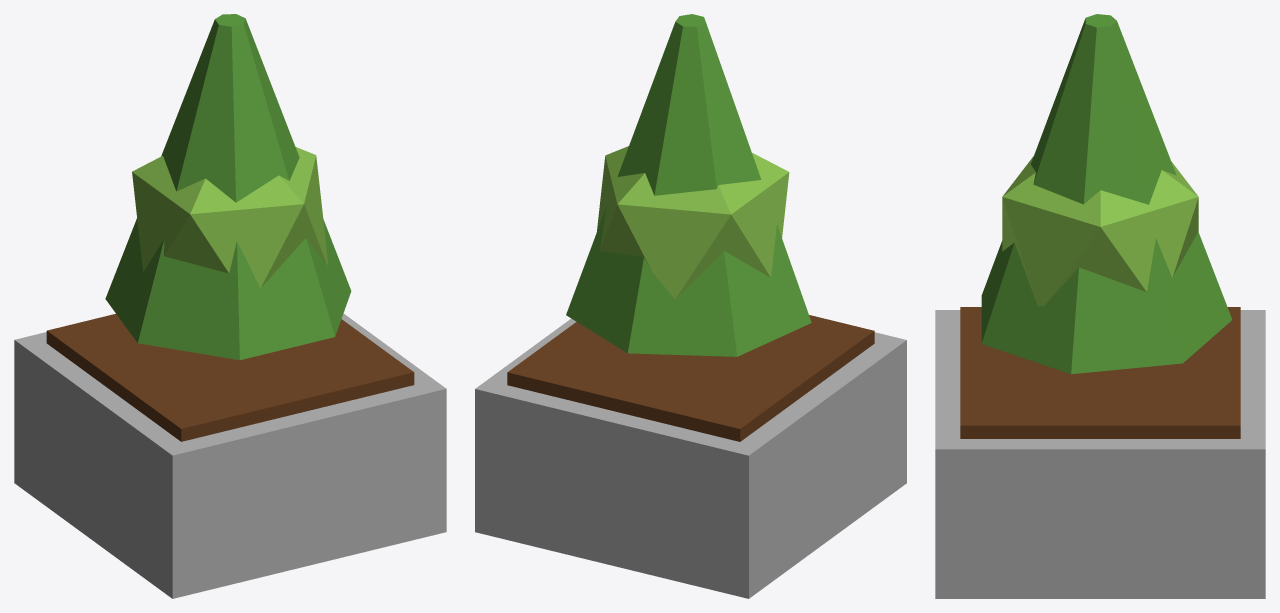
Rendered from sidewalk_planter.glb.
3 renders of one model, left to right at view 1: azimuth 30°, elevation 25°; view 2: azimuth 150°, elevation 25°; view 3: azimuth 270°, elevation 25°, orthographic. The views are drawn at different scales.
Parts seen in each view (by area): view 1: sidewalk_planter; view 2: sidewalk_planter; view 3: sidewalk_planter.
Boxes of the visible parts, box(x1,y1,x2,y2) form: sidewalk_planter: box(14, 14, 446, 598); sidewalk_planter: box(475, 14, 906, 598); sidewalk_planter: box(935, 14, 1265, 598).
Size of the model in its own units: 1 by 1.7 by 1.
